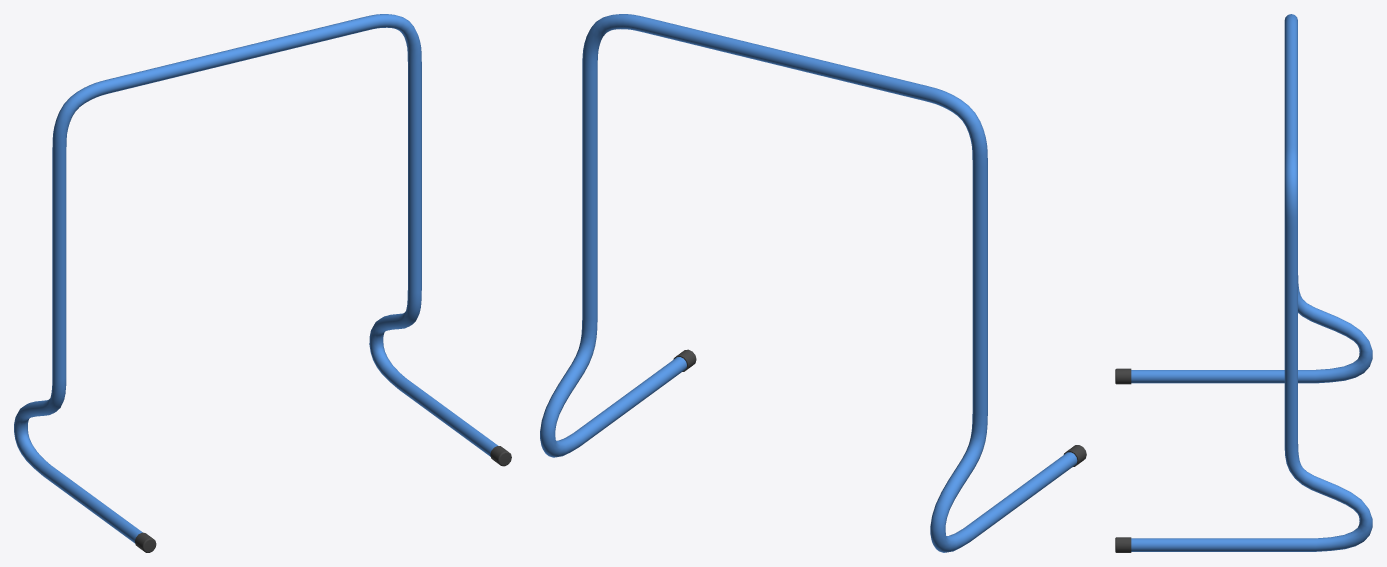
3 renders of one model, left to right at view 1: azimuth 30°, elevation 25°; view 2: azimuth 150°, elevation 25°; view 3: azimuth 270°, elevation 25°, orthographic. The views are drawn at different scales.
Parts seen in each view (by area): view 1: curve2; view 2: curve2; view 3: curve2.
Part boxes in pixels (x1=…): curve2: x1=14, y1=14, x2=511, y2=552; curve2: x1=540, y1=14, x2=1086, y2=552; curve2: x1=1115, y1=14, x2=1372, y2=552.
Size of the model in its own units: 39.25 by 40.09 by 24.36.
